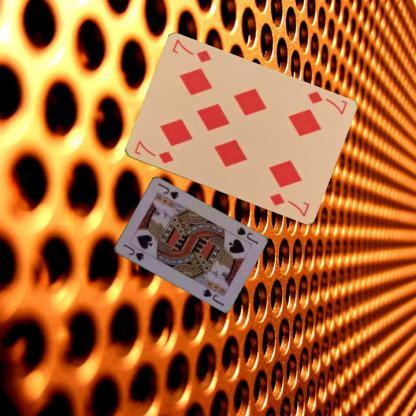7d: (304, 89, 349, 116), (131, 138, 175, 165)
Js: (120, 240, 145, 262), (234, 224, 259, 246)
